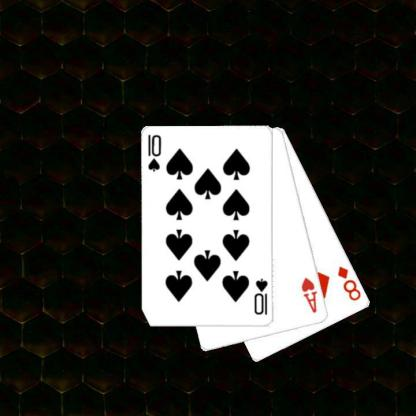10S: (146, 132, 163, 174), (252, 276, 269, 317)
8D: (335, 264, 362, 302)
AH: (299, 275, 319, 314)
